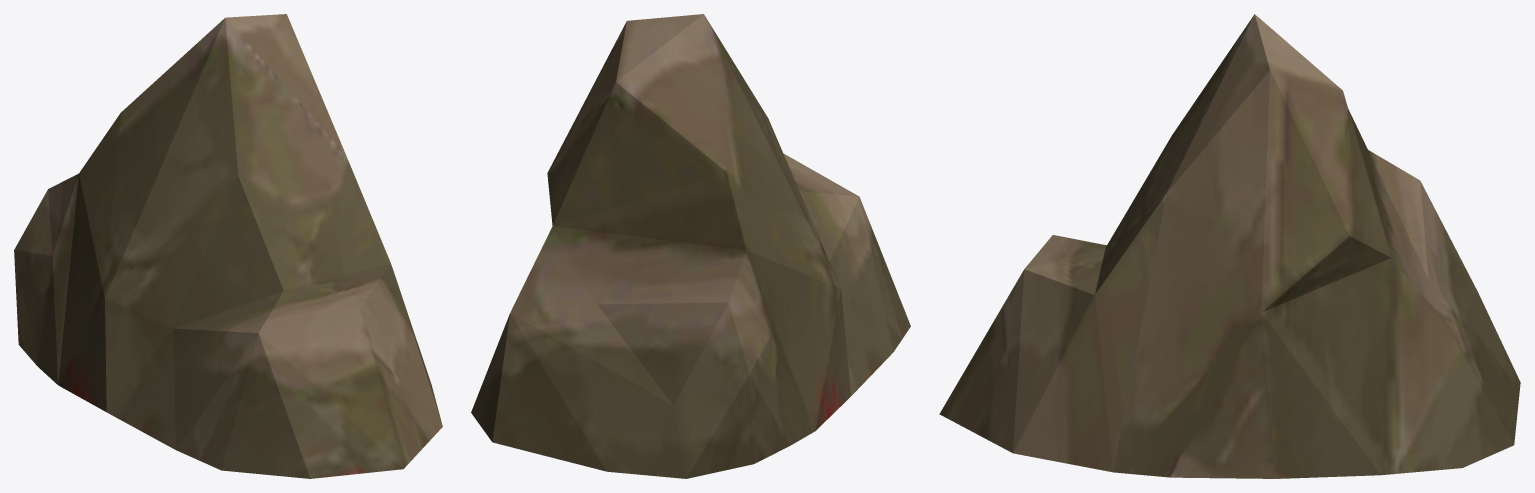
File: eff_mesh_shitou_01.FBX
3 views of the same model, side by side, from view 1: azimuth 30°, elevation 25°; view 2: azimuth 150°, elevation 25°; view 3: azimuth 270°, elevation 25° (orthographic). The views are drawn at different scales.
Visible parts, largest first — view 1: shitou_001; view 2: shitou_001; view 3: shitou_001.
Part boxes in pixels (left/top/right/bottom): shitou_001: left=14, top=14, right=442, bottom=478; shitou_001: left=471, top=14, right=910, bottom=478; shitou_001: left=939, top=14, right=1520, bottom=478.
Bounding box in the file's own units: 141 × 162 × 222.
1 material, 1 textured.
